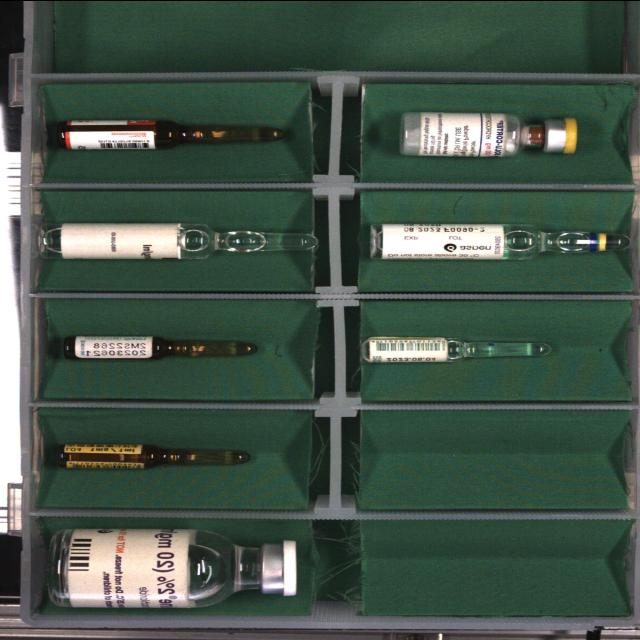Vials: (399, 111, 578, 156)
